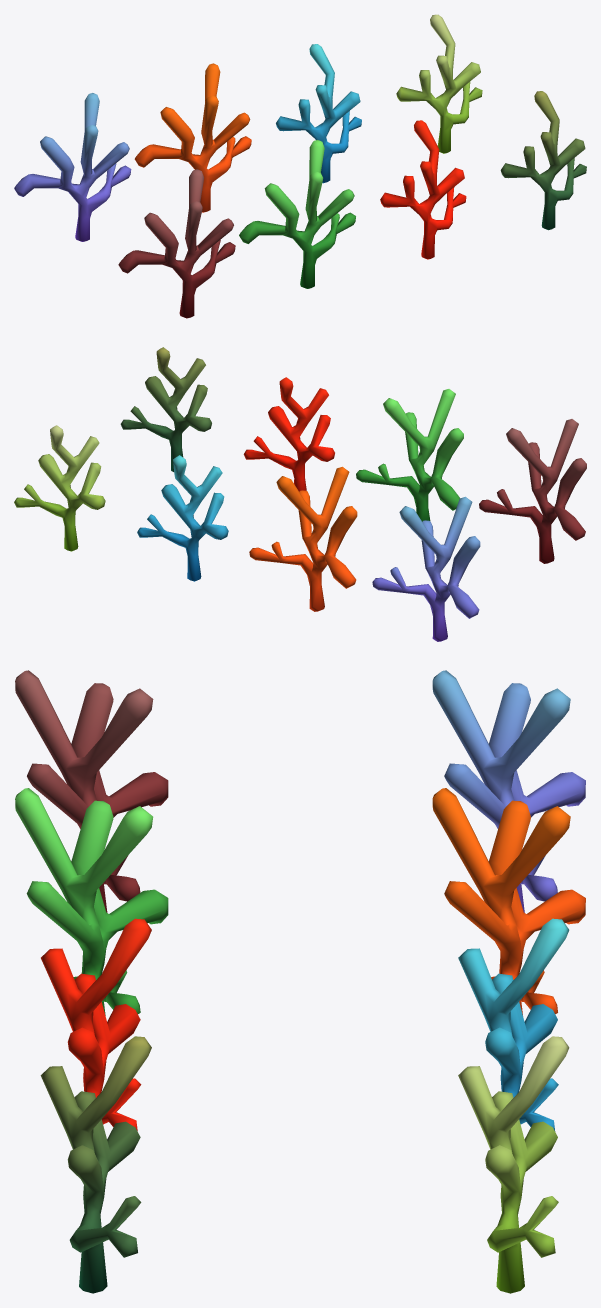
Rendered from Reef_Set3.glb.
3 renders of one model, top to bottom at view 1: azimuth 30°, elevation 25°; view 2: azimuth 150°, elevation 25°; view 3: azimuth 270°, elevation 25°, orthographic. The views are drawn at different scales.
Visible parts, largest first — view 1: C_CoralReef.010, C_CoralReef.006, C_CoralReef, C_CoralReef.008, C_CoralReef.005, C_CoralReef.001, C_CoralReef.009, C_CoralReef.007; view 2: C_CoralReef.006, C_CoralReef.010, C_CoralReef.008, C_CoralReef, C_CoralReef.007, C_CoralReef.009, C_CoralReef.005, C_CoralReef.001; view 3: C_CoralReef.008, C_CoralReef, C_CoralReef.006, C_CoralReef.010, C_CoralReef.005, C_CoralReef.009, C_CoralReef.001, C_CoralReef.007.
Part boxes in pixels (x1=…): C_CoralReef.010: x1=14, y1=93, x2=131, y2=241; C_CoralReef.006: x1=118, y1=169, x2=235, y2=318; C_CoralReef: x1=239, y1=140, x2=355, y2=288; C_CoralReef.008: x1=134, y1=63, x2=251, y2=212; C_CoralReef.005: x1=500, y1=91, x2=586, y2=230; C_CoralReef.001: x1=380, y1=120, x2=466, y2=259; C_CoralReef.009: x1=396, y1=14, x2=482, y2=153; C_CoralReef.007: x1=276, y1=44, x2=361, y2=183; C_CoralReef.006: x1=479, y1=419, x2=586, y2=563; C_CoralReef.010: x1=372, y1=496, x2=480, y2=641; C_CoralReef.008: x1=249, y1=466, x2=357, y2=611; C_CoralReef: x1=356, y1=389, x2=463, y2=521; C_CoralReef.007: x1=137, y1=455, x2=228, y2=581; C_CoralReef.009: x1=14, y1=425, x2=105, y2=551; C_CoralReef.005: x1=120, y1=347, x2=211, y2=471; C_CoralReef.001: x1=243, y1=377, x2=334, y2=491; C_CoralReef.008: x1=432, y1=788, x2=585, y2=1014; C_CoralReef: x1=15, y1=788, x2=168, y2=1015; C_CoralReef.006: x1=15, y1=670, x2=168, y2=912; C_CoralReef.010: x1=432, y1=670, x2=585, y2=912; C_CoralReef.005: x1=40, y1=1036, x2=151, y2=1293; C_CoralReef.009: x1=458, y1=1036, x2=569, y2=1293; C_CoralReef.001: x1=41, y1=918, x2=151, y2=1130; C_CoralReef.007: x1=458, y1=918, x2=569, y2=1131.
Size of the model in its own units: 7.63 by 2.14 by 4.1.
1 material, 1 textured.
